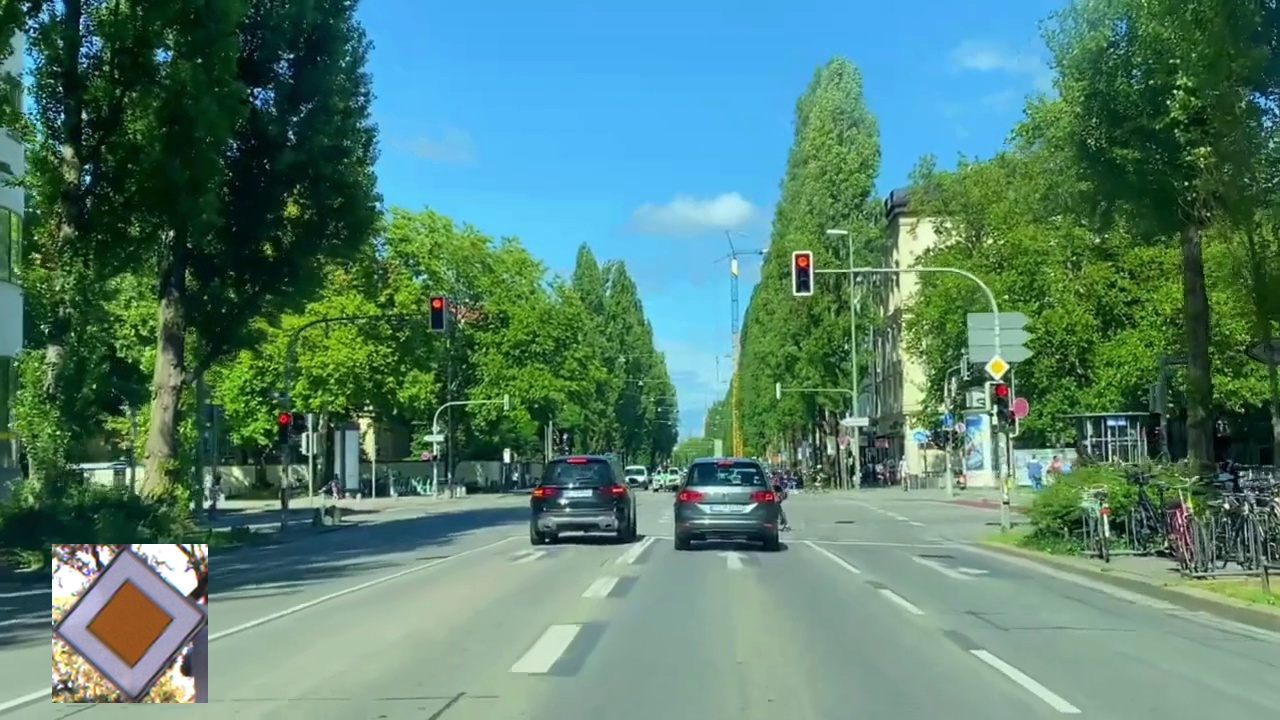Priority road: (52, 544, 208, 703)
